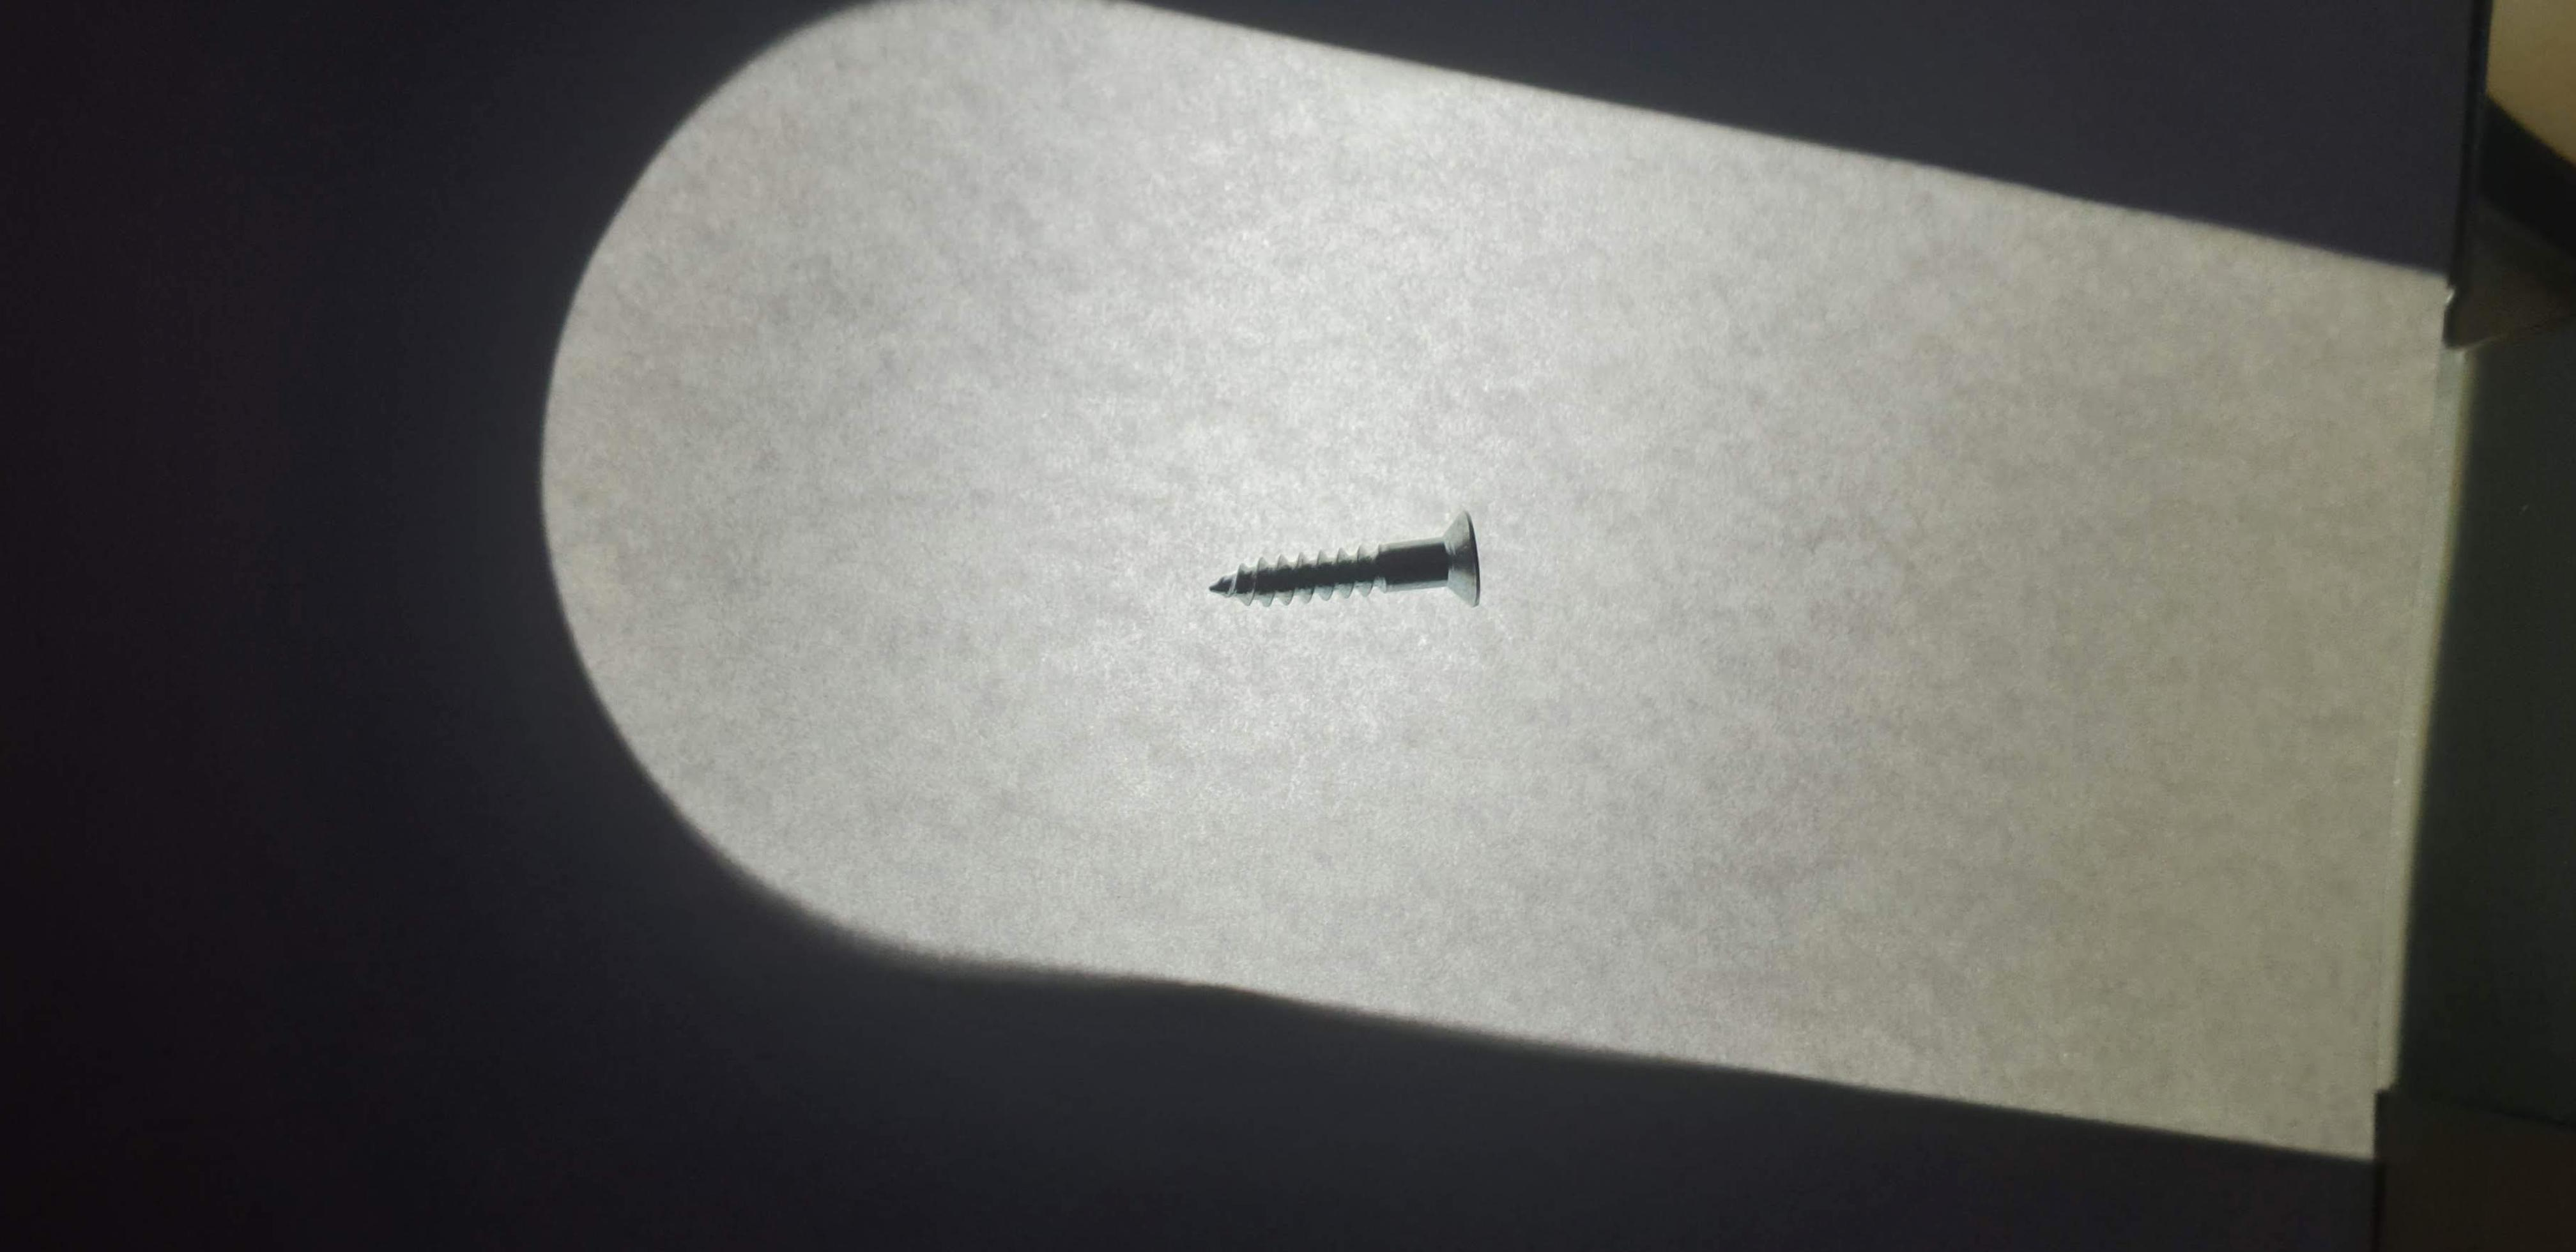S005: (1150, 472, 1534, 649)
